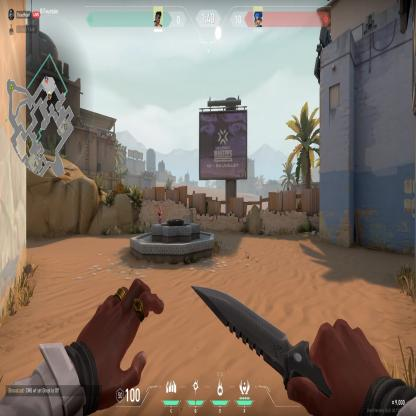enemy: (156, 204, 163, 224)
